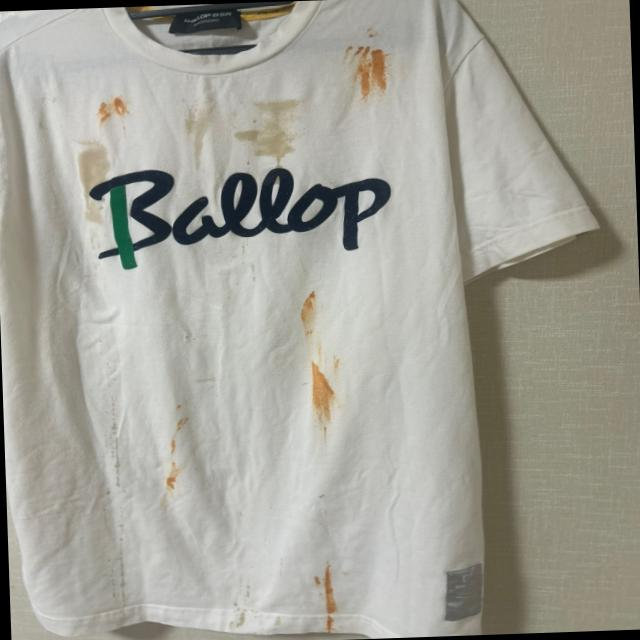stain: (70, 136, 108, 232), (309, 359, 336, 427), (252, 98, 300, 134), (250, 132, 300, 160), (102, 436, 126, 488), (370, 48, 394, 96), (349, 60, 371, 104), (296, 294, 318, 336), (166, 436, 181, 491), (178, 99, 199, 134), (114, 561, 130, 606), (193, 120, 206, 170), (90, 100, 114, 127), (325, 564, 337, 616), (107, 94, 130, 120), (344, 41, 368, 63), (198, 94, 212, 131), (232, 126, 260, 144), (108, 394, 120, 434), (106, 571, 119, 599), (85, 234, 104, 252), (170, 415, 190, 432), (364, 24, 381, 41), (237, 238, 250, 260), (246, 264, 260, 283), (317, 425, 329, 446), (100, 504, 112, 524), (232, 600, 248, 614), (330, 355, 340, 377), (313, 342, 323, 362), (104, 556, 128, 564), (237, 612, 249, 628), (324, 616, 334, 635), (242, 584, 252, 601), (236, 580, 243, 602), (270, 161, 286, 170), (274, 616, 285, 628), (118, 506, 126, 522), (226, 619, 237, 630), (172, 402, 185, 411), (114, 535, 128, 543), (313, 574, 322, 586), (308, 290, 318, 298), (119, 520, 127, 530), (278, 559, 282, 577), (102, 488, 113, 494), (124, 489, 128, 496)
